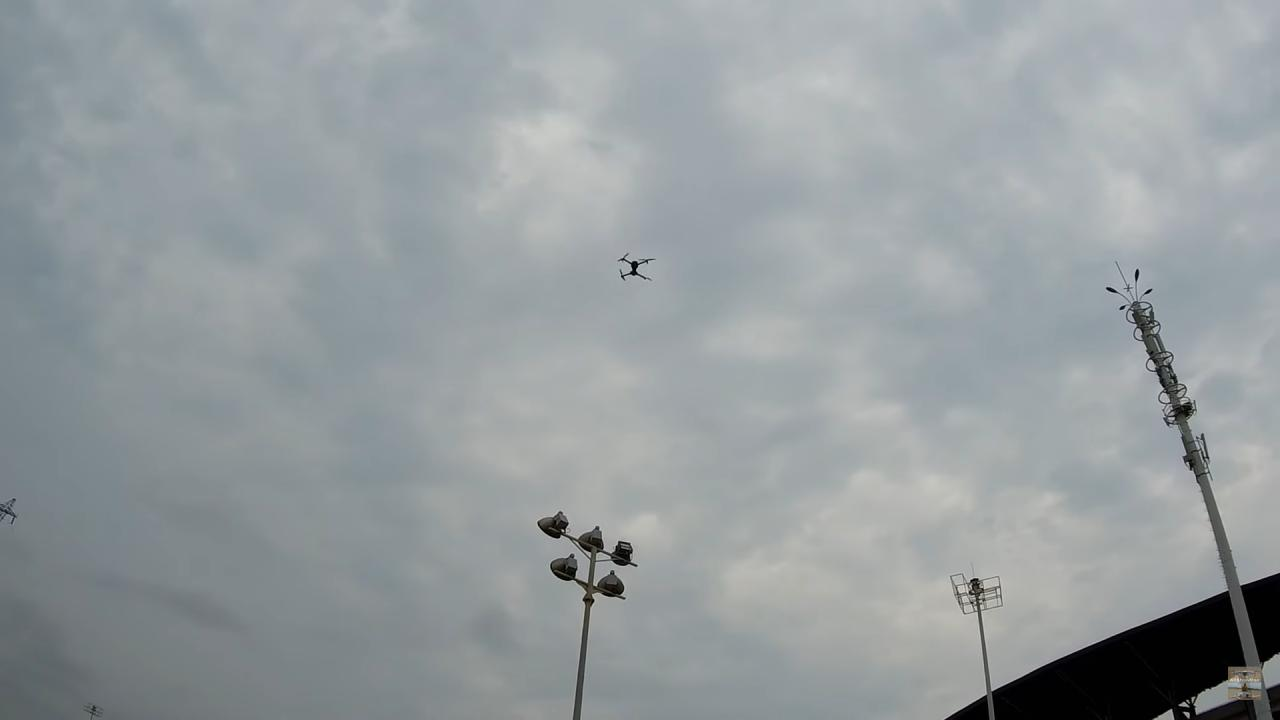Drone: (607, 244, 664, 292)
